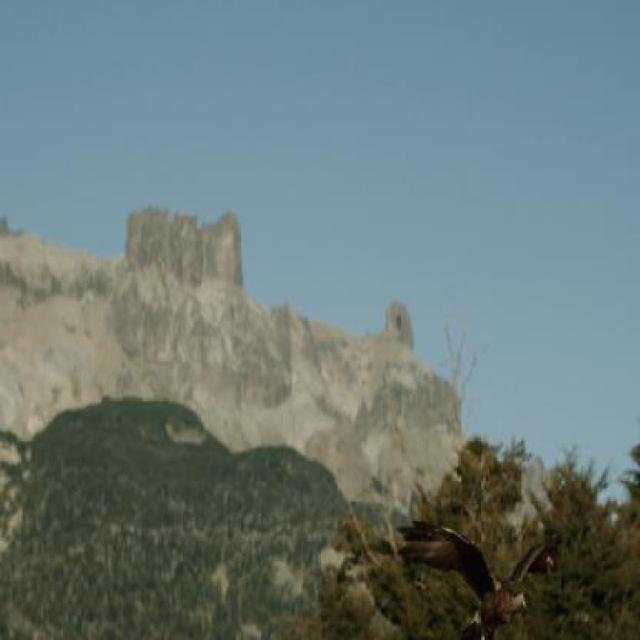bird: (378, 496, 558, 639)
